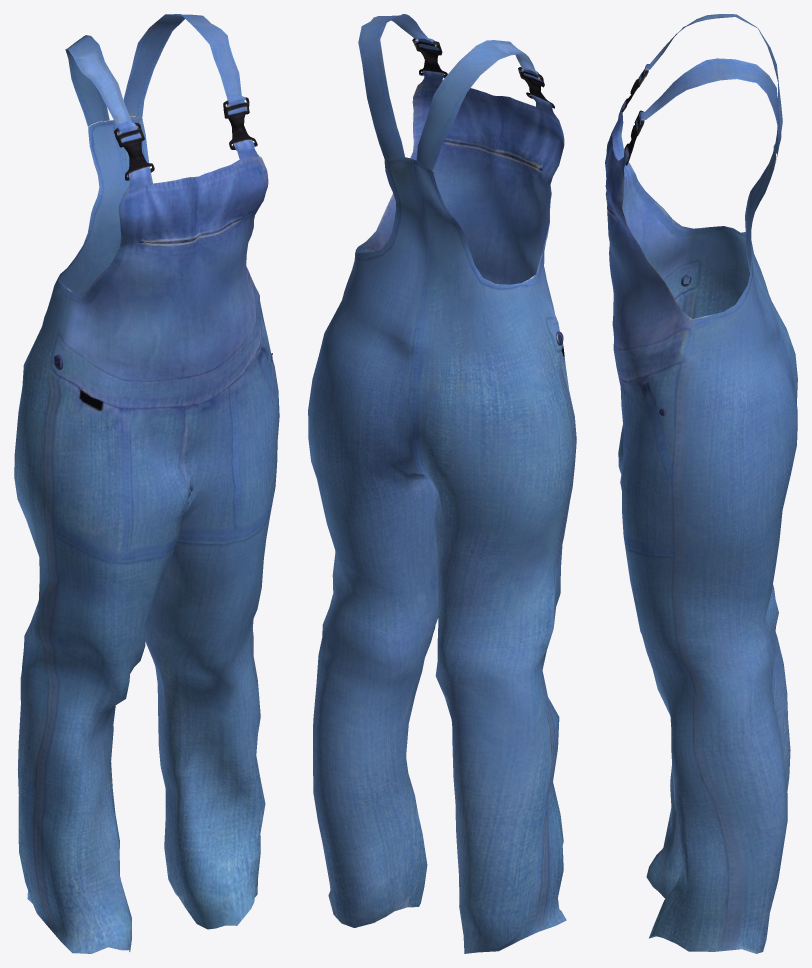
Rendered from bottom_overalls.gltf.
3 views of the same model, side by side, from view 1: azimuth 30°, elevation 25°; view 2: azimuth 150°, elevation 25°; view 3: azimuth 270°, elevation 25° (orthographic). The views are drawn at different scales.
Visible parts, largest first — view 1: bottom_overalls; view 2: bottom_overalls; view 3: bottom_overalls.
Boxes of the visible parts, x1=… form: bottom_overalls: x1=14, y1=14, x2=279, y2=953; bottom_overalls: x1=308, y1=14, x2=576, y2=953; bottom_overalls: x1=605, y1=14, x2=797, y2=953.
Bounding box in the file's own units: 0.3816 × 1.34 × 0.2648.
Materials: 1 (1 with a texture image).
